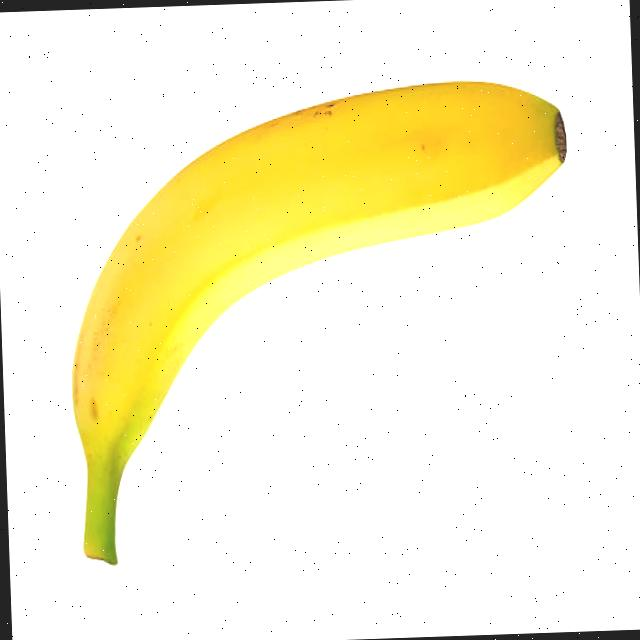Ripe: (57, 75, 580, 570)
